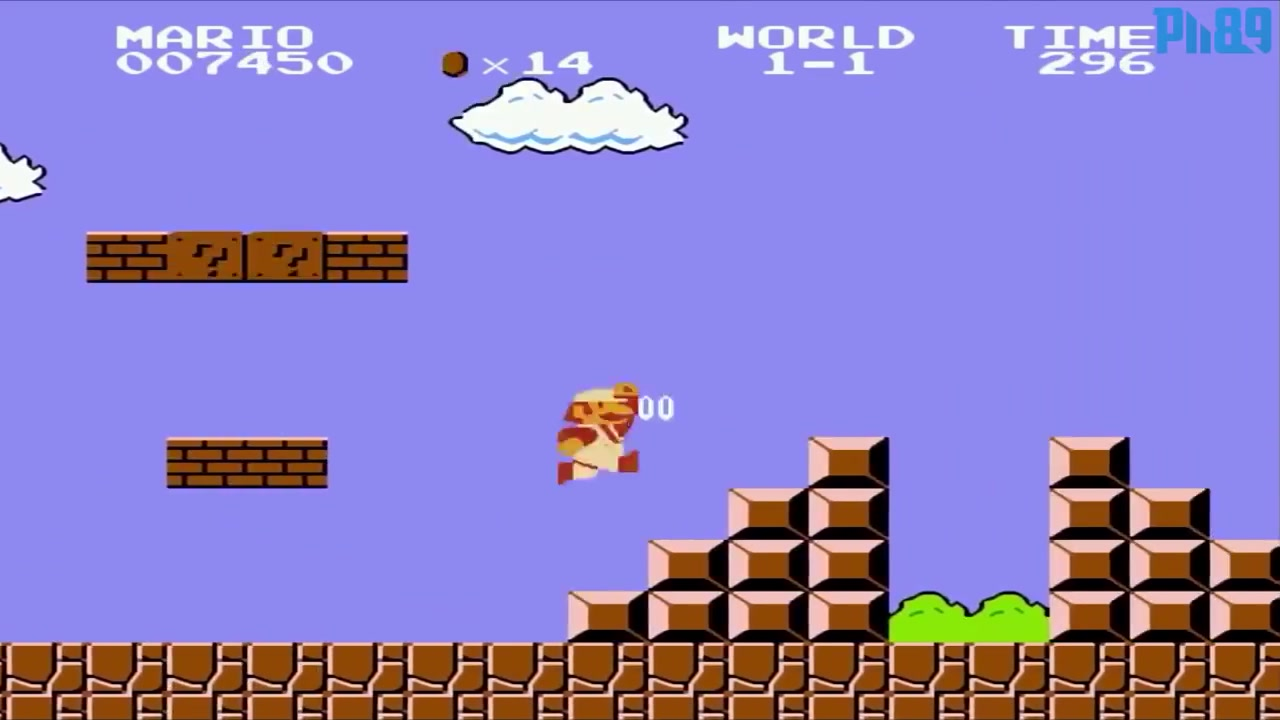mario: (544, 367, 648, 493)
